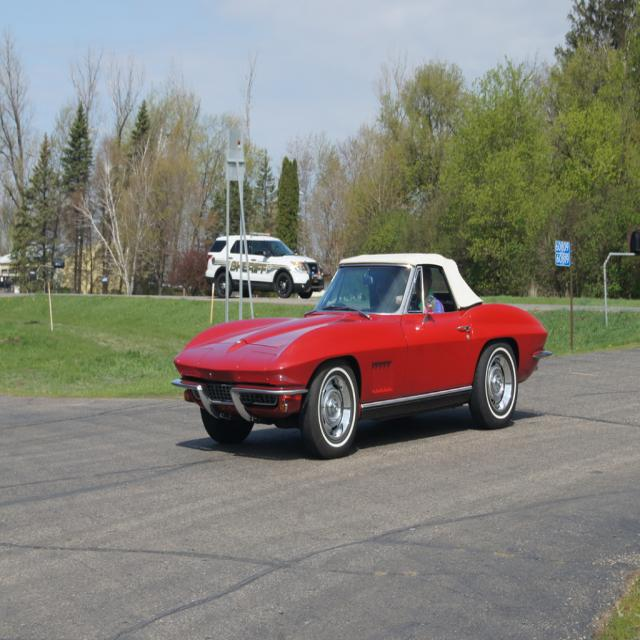car: (170, 251, 550, 466)
